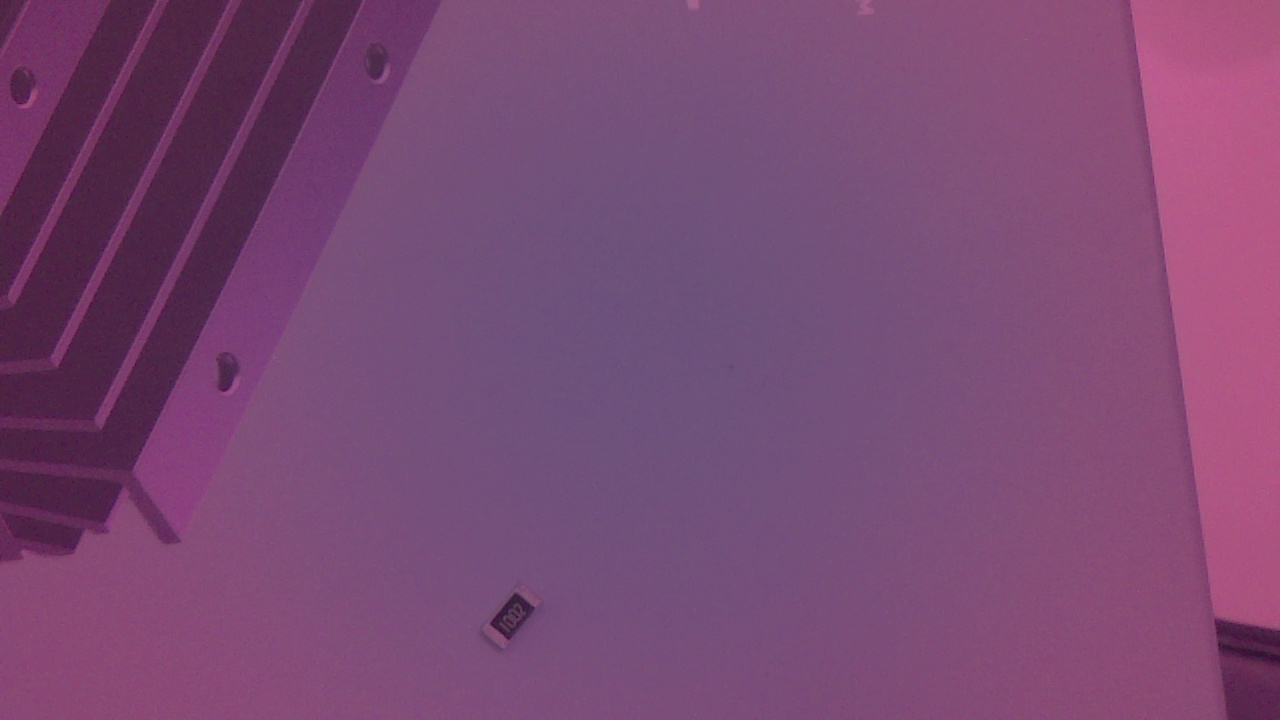Resistor: (479, 581, 552, 660)
